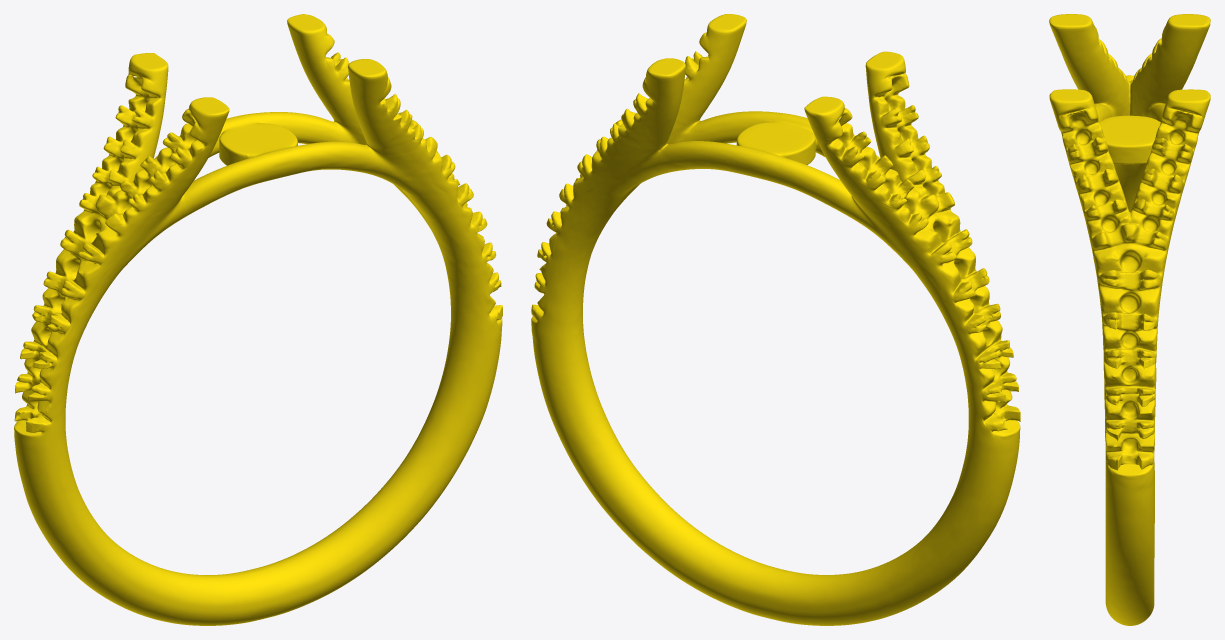
Rendered from Shank_Split_French Pave_B_Single Halo_Band.glb.
The picture shows the model from 3 angles, left to right: view 1: azimuth 30°, elevation 25°; view 2: azimuth 150°, elevation 25°; view 3: azimuth 270°, elevation 25°; orthographic projection. The views are drawn at different scales.
Size of the model in its own units: 0.0212 by 0.0233 by 0.00628.
